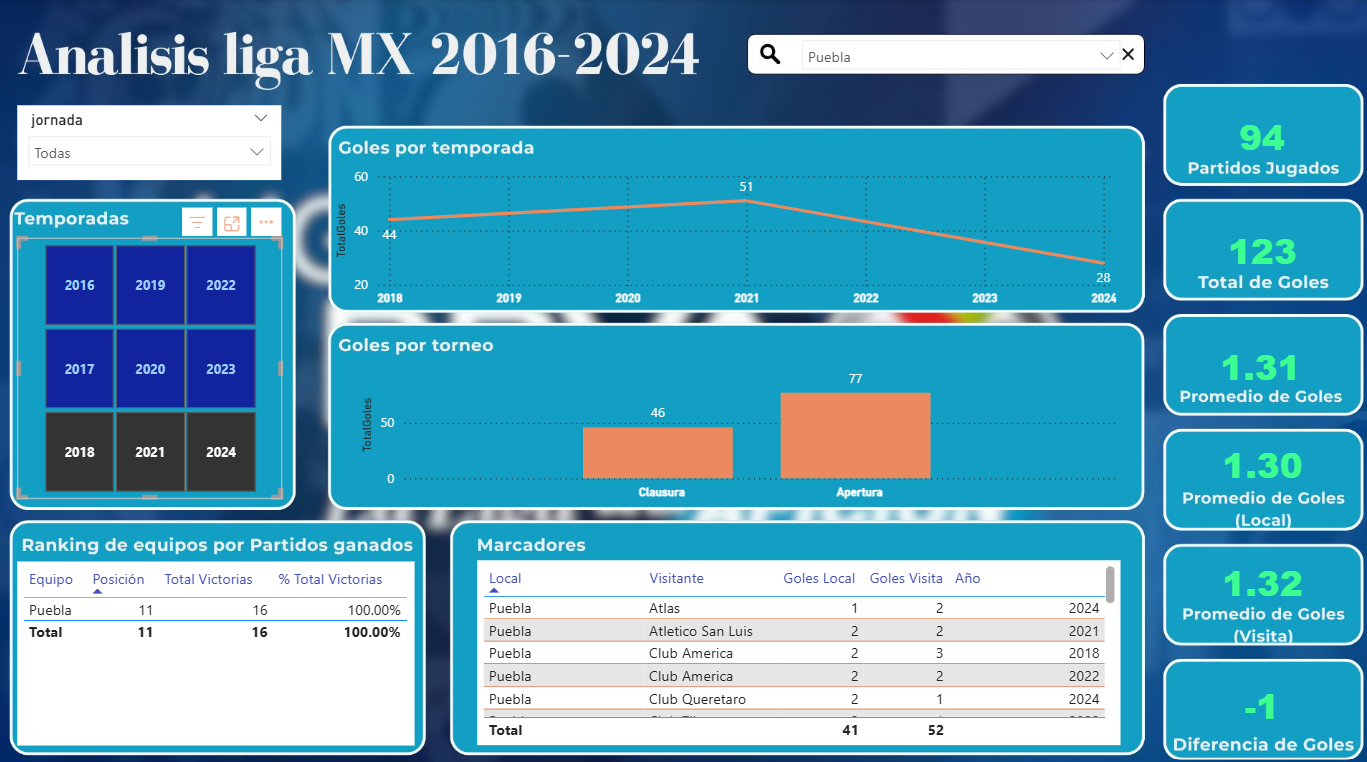

This screenshot's page, from the dashboard's own definition file:
{"tool":"powerbi","page":{"name":"Página 1","canvas":[1280,720],"ordinal":0},"visuals":[{"type":"slicer","fields":{"Values":["2016-2024_liga_mx.season"]},"box":[20.3,221.6,245.7,243.1],"z":0},{"type":"card","fields":{"Values":["2016-2024_liga_mx.partidosTotales"]},"box":[1099.2,88.6,158.3,79.8],"z":1000},{"type":"card","fields":{"Values":["2016-2024_liga_mx.TotalGoles"]},"box":[1108,191.2,140.6,87.4],"z":2000},{"type":"card","fields":{"Values":["Avg(2016-2024_liga_mx.home_goals)"]},"box":[1108,393.8,140.6,79.8],"z":3000},{"type":"card","fields":{"Values":["Avg(2016-2024_liga_mx.away_goals)"]},"box":[1077.6,497.7,201.3,91.2],"z":4000},{"type":"clusteredColumnChart","fields":{"Category":["2016-2024_liga_mx.tournament"],"Y":["2016-2024_liga_mx.TotalGoles"]},"box":[334.3,333,712.9,140.6],"z":5000},{"type":"card","fields":{"Values":["2016-2024_liga_mx.difGoles"]},"box":[1087.8,621.8,181.1,72.2],"z":6000},{"type":"slicer","fields":{"Values":["2016-2024_liga_mx.home_team"]},"box":[739.5,27.9,316.6,40.5],"z":7000},{"type":"card","fields":{"Values":["2016-2024_liga_mx.Promedio Goles Equipo"]},"box":[1086.5,297.6,181.1,89.9],"z":8000},{"type":"tableEx","fields":{"Values":["2016-2024_liga_mx.home_team","2016-2024_liga_mx.PartidosGanados","2016-2024_liga_mx.Total Victorias","Divide(2016-2024_liga_mx.Total Victorias, ScopedEval(2016-2024_liga_mx.Total Victorias, []))"]},"box":[20.3,523,369.8,171],"z":10000},{"type":"tableEx","fields":{"Values":["2016-2024_liga_mx.home_team","2016-2024_liga_mx.away_team","Sum(2016-2024_liga_mx.home_goals)","Sum(2016-2024_liga_mx.away_goals)","2016-2024_liga_mx.date.Variación.Jerarquía de fechas.Año"]},"box":[448,522.5,598.4,171.6],"z":11000},{"type":"slicer","fields":{"Values":["2016-2024_liga_mx.jornada"]},"box":[20.3,98.8,245.7,69.6],"z":12000},{"type":"lineChart","fields":{"Y":["2016-2024_liga_mx.TotalGoles"],"Category":["2016-2024_liga_mx.season"]},"box":[310.3,150.7,737,141.8],"z":13000}]}

Visuals, with their boxes in screenshot pixels (x1, y1, x2, y2), scaled from the page's 1280x720 canvas onto the 1367x762 screenshot:
slicer - 2016-2024_liga_mx.season: 22,235,284,492
card - 2016-2024_liga_mx.partidosTotales: 1174,94,1343,178
card - 2016-2024_liga_mx.TotalGoles: 1183,202,1333,295
card - Avg(2016-2024_liga_mx.home_goals): 1183,417,1333,501
card - Avg(2016-2024_liga_mx.away_goals): 1151,527,1366,623
clusteredColumnChart - 2016-2024_liga_mx.tournament x 2016-2024_liga_mx.TotalGoles: 357,352,1118,501
card - 2016-2024_liga_mx.difGoles: 1162,658,1355,734
slicer - 2016-2024_liga_mx.home_team: 790,30,1128,72
card - 2016-2024_liga_mx.Promedio Goles Equipo: 1160,315,1354,410
tableEx - 2016-2024_liga_mx.home_team x 2016-2024_liga_mx.PartidosGanados: 22,554,417,734
tableEx - 2016-2024_liga_mx.home_team x 2016-2024_liga_mx.away_team: 478,553,1118,735
slicer - 2016-2024_liga_mx.jornada: 22,105,284,178
lineChart - 2016-2024_liga_mx.TotalGoles x 2016-2024_liga_mx.season: 331,159,1118,310
